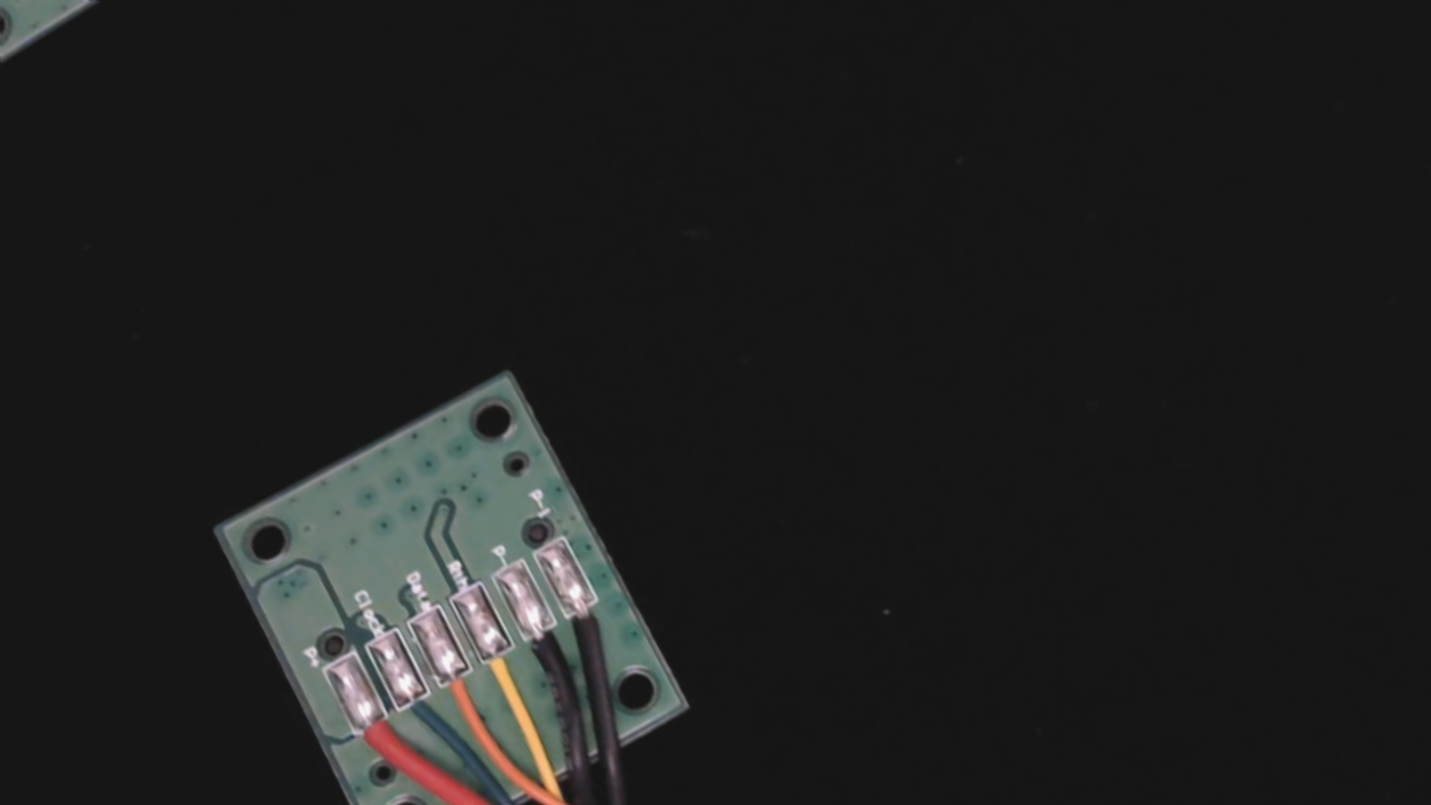Black: (508, 605, 587, 693)
Black1: (550, 577, 633, 668)
Green: (381, 670, 457, 754)
Orange: (422, 648, 506, 743)
Red: (338, 694, 412, 774)
Yellow: (463, 624, 551, 723)
